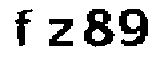8: (82, 6, 115, 50)
9: (117, 7, 151, 49)
f: (10, 8, 37, 49)
z: (44, 17, 75, 50)
